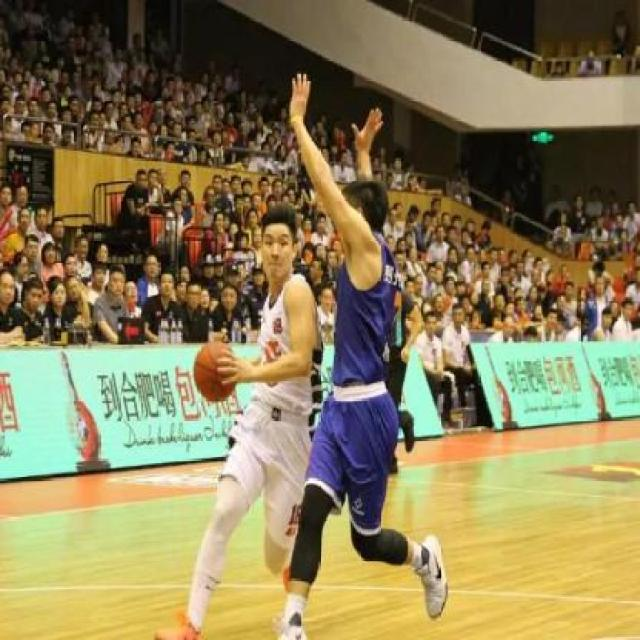basketball: (194, 341, 234, 403)
